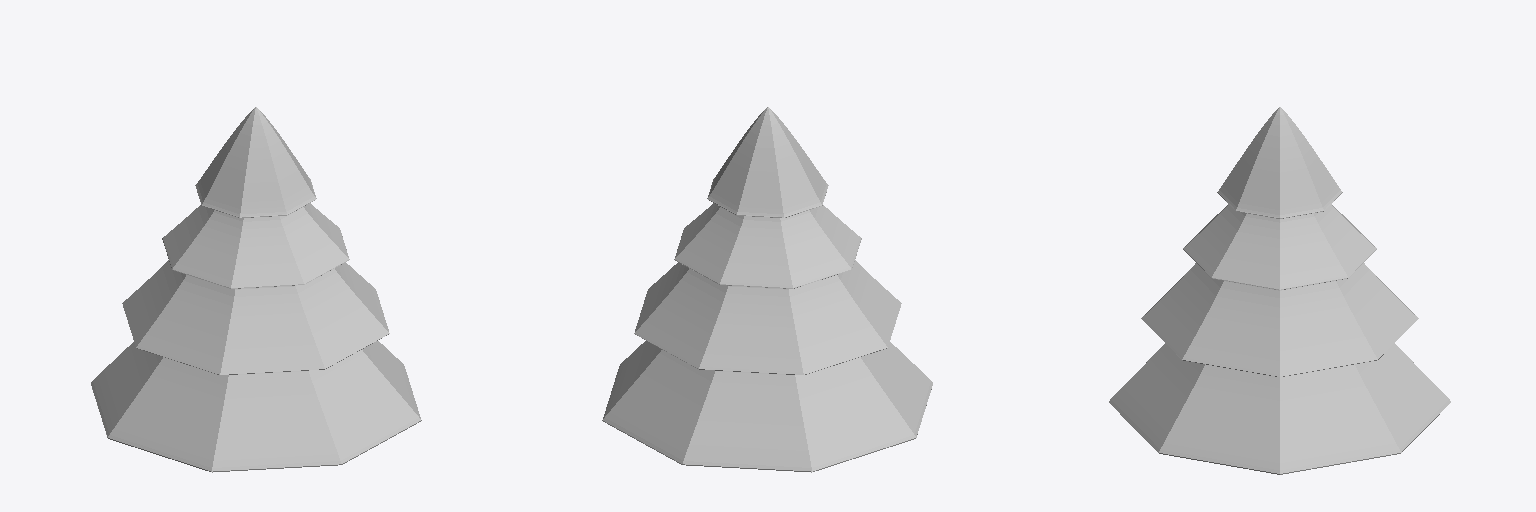
File: MOTL_Spruce2.obj
3 renders of one model, left to right at view 1: azimuth 30°, elevation 25°; view 2: azimuth 150°, elevation 25°; view 3: azimuth 270°, elevation 25°, orthographic.
Parts seen in each view (by area): view 1: BézierCurve; view 2: BézierCurve; view 3: BézierCurve.
Part boxes in pixels (x1,y1,x2,y2): BézierCurve: (91,107,421,472); BézierCurve: (602,107,932,472); BézierCurve: (1109,107,1450,474).
Size of the model in its own units: 19.67 by 18.97 by 19.67.